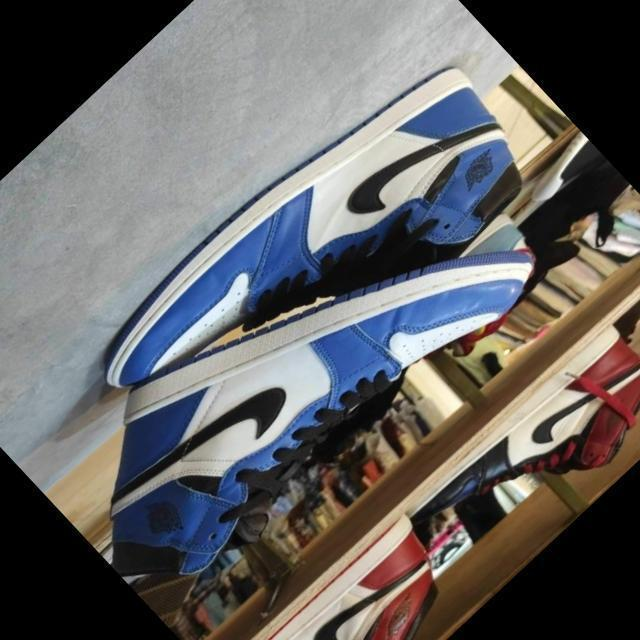nike fake jordan 1: (31, 115, 561, 629), (81, 32, 554, 490)
nike original jordan 1: (220, 504, 489, 640)
